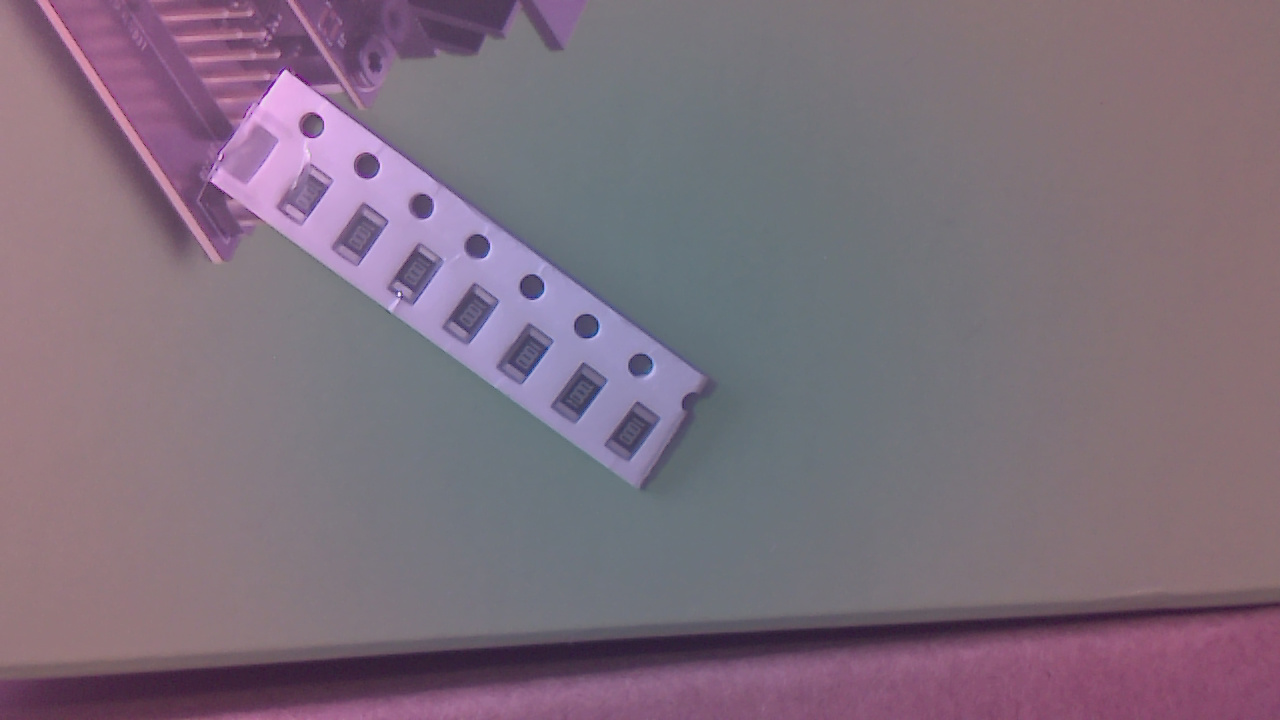Resistor: (390, 246, 454, 309), (335, 208, 396, 273), (448, 288, 508, 353), (280, 166, 340, 230), (609, 402, 667, 468), (558, 365, 615, 431), (501, 328, 559, 392)
